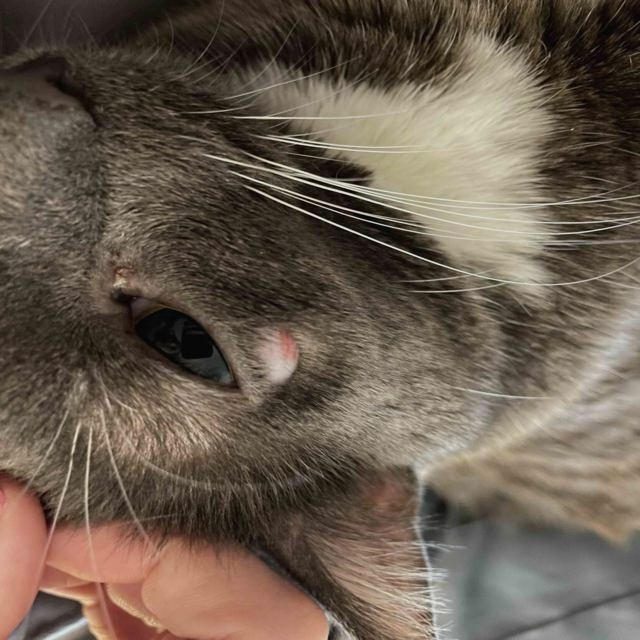lump_and_bump: (255, 316, 298, 390)
